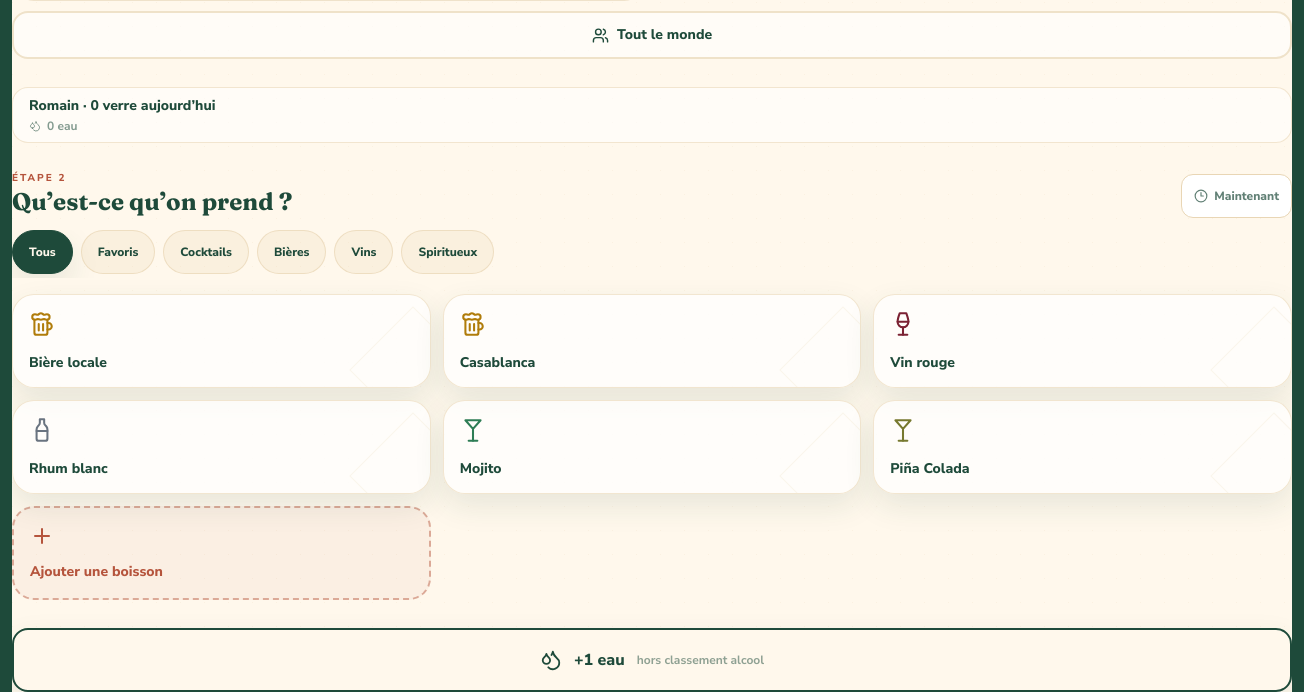
Test: ajout et annulation › signale une écriture hors ligne sans perdre le bouton Annuler
(page scrolled)
Click the button with aria-label "Ajouter un Mojito aux participants sélectionnés" at (481, 468), box [443,400,861,494]
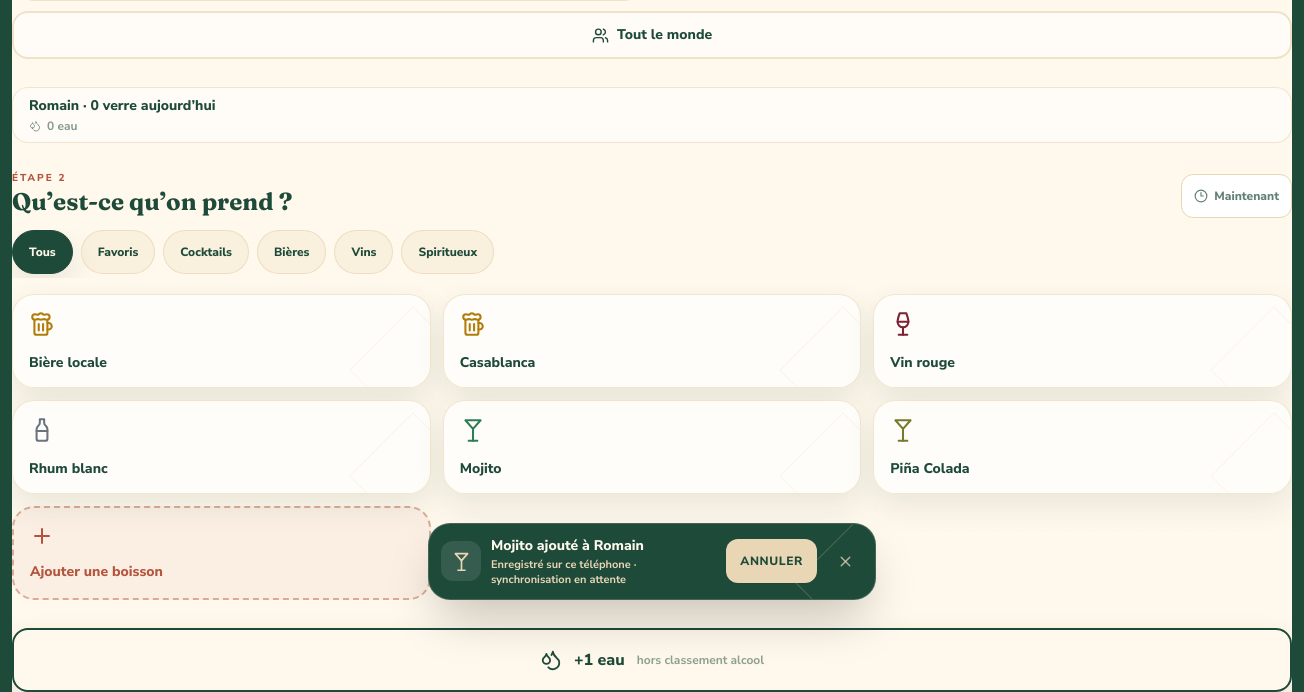
Check: the text "Enregistré sur ce téléphone · synchronisation en attente" is shown, box [491,557,636,587]
Check: the button "Annuler" is shown, box [726,539,817,583]
